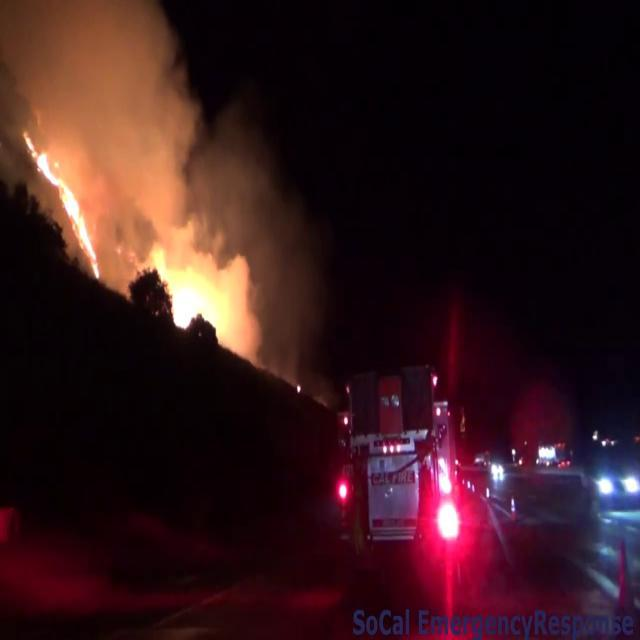Fire: (145, 228, 241, 352), (31, 126, 101, 276)
Smoke: (0, 0, 266, 231)
